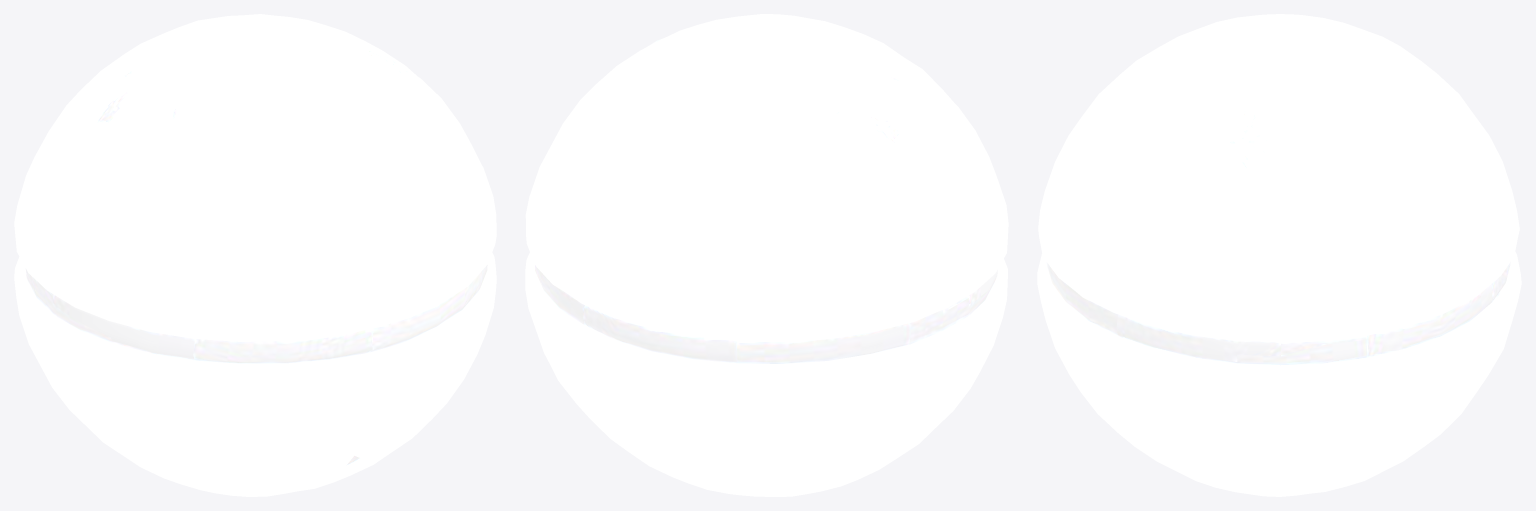
Rendered from esfera-azul.glb.
3 views of the same model, side by side, from view 1: azimuth 30°, elevation 25°; view 2: azimuth 150°, elevation 25°; view 3: azimuth 270°, elevation 25° (orthographic).
Visible parts, largest first — view 1: mesh_node; view 2: mesh_node; view 3: mesh_node.
Boxes of the visible parts, bbox=[...] form: mesh_node: bbox=[14, 14, 496, 496]; mesh_node: bbox=[525, 14, 1008, 496]; mesh_node: bbox=[1037, 14, 1521, 496].
Size of the model in its own units: 1 by 1 by 1.
Materials: 1 (1 with a texture image).
